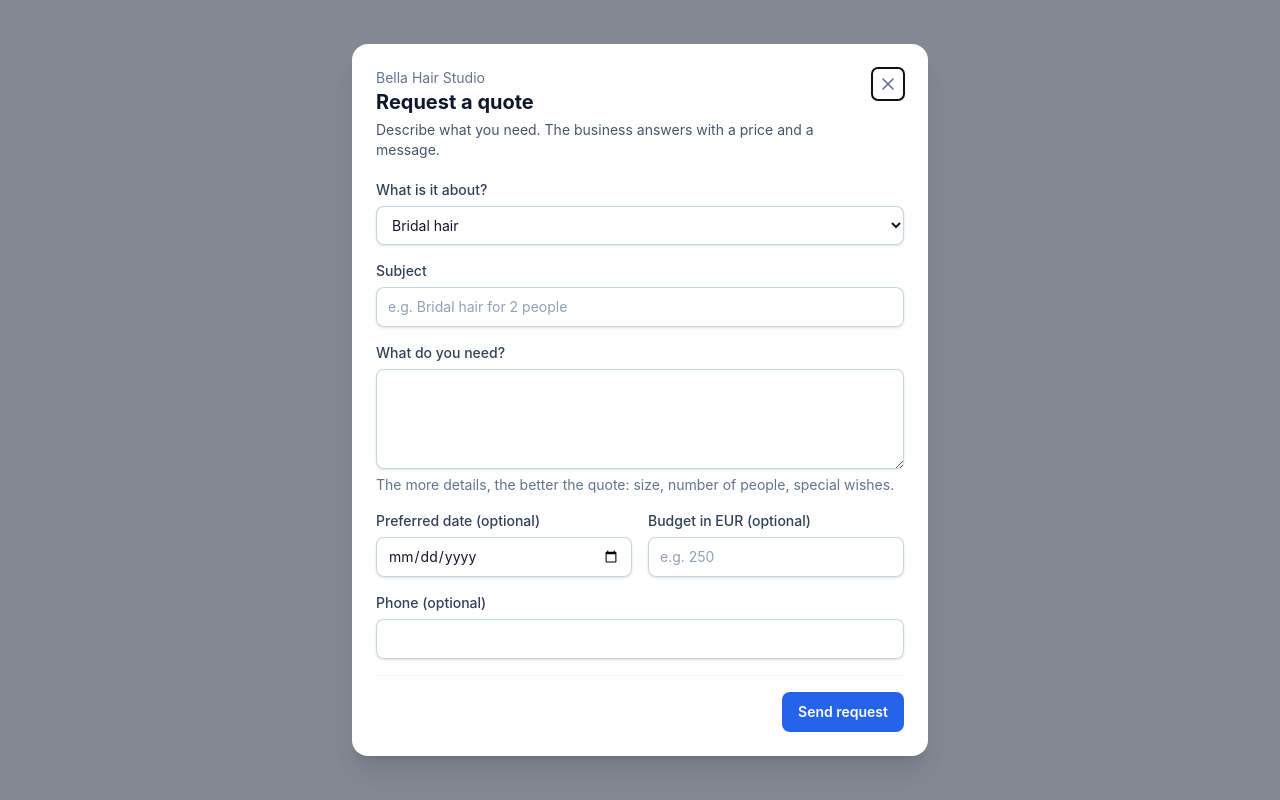
Scenario: QuoteRequestPanel › sends the request with the budget in cents and shows a confirmation
The width and height of the screenshot is (1280, 800).
Step 1. Type "Bridal hair for my wedding" into the field labelled "Subject" → [640, 307], box x1=376 y1=287 x2=904 y2=327
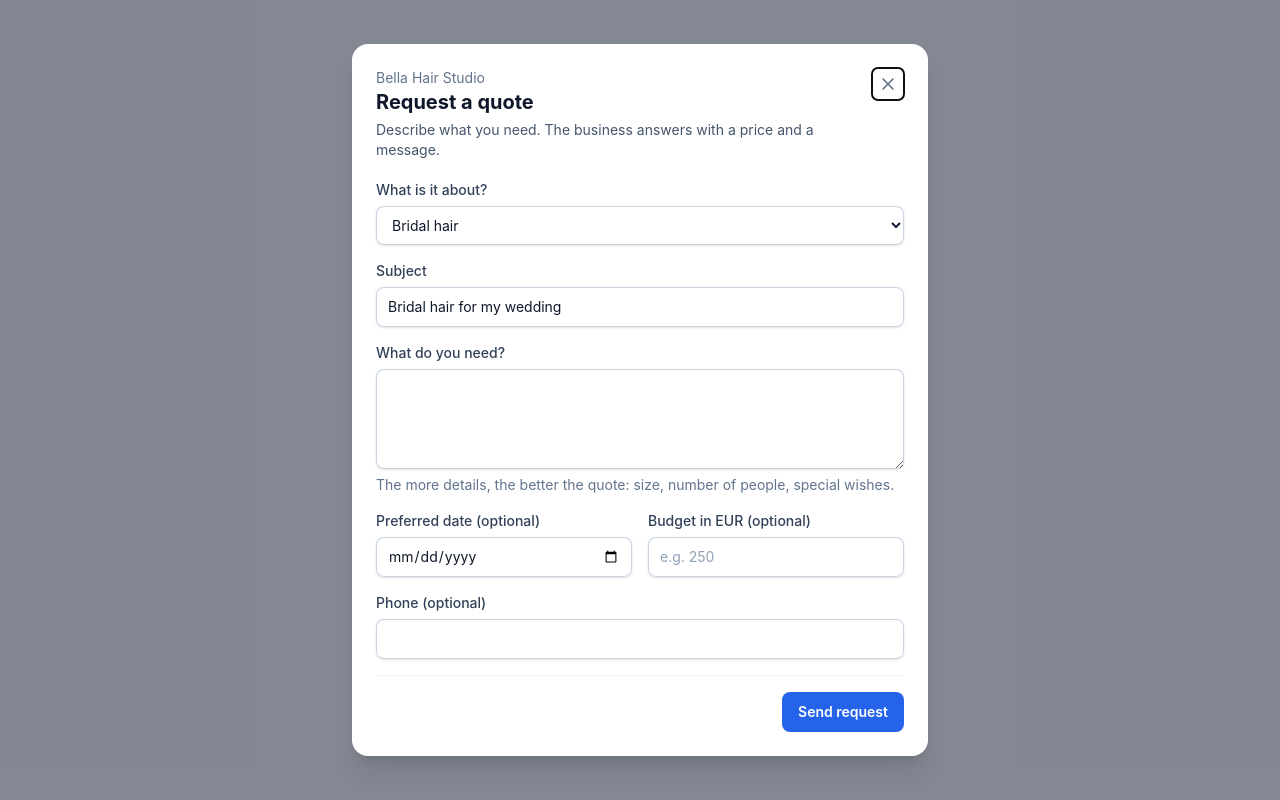
Step 2. Type "Long hair, an updo with flowers, and a trial session." into the text box labelled "What do you need?" → [640, 419], box x1=376 y1=369 x2=904 y2=469
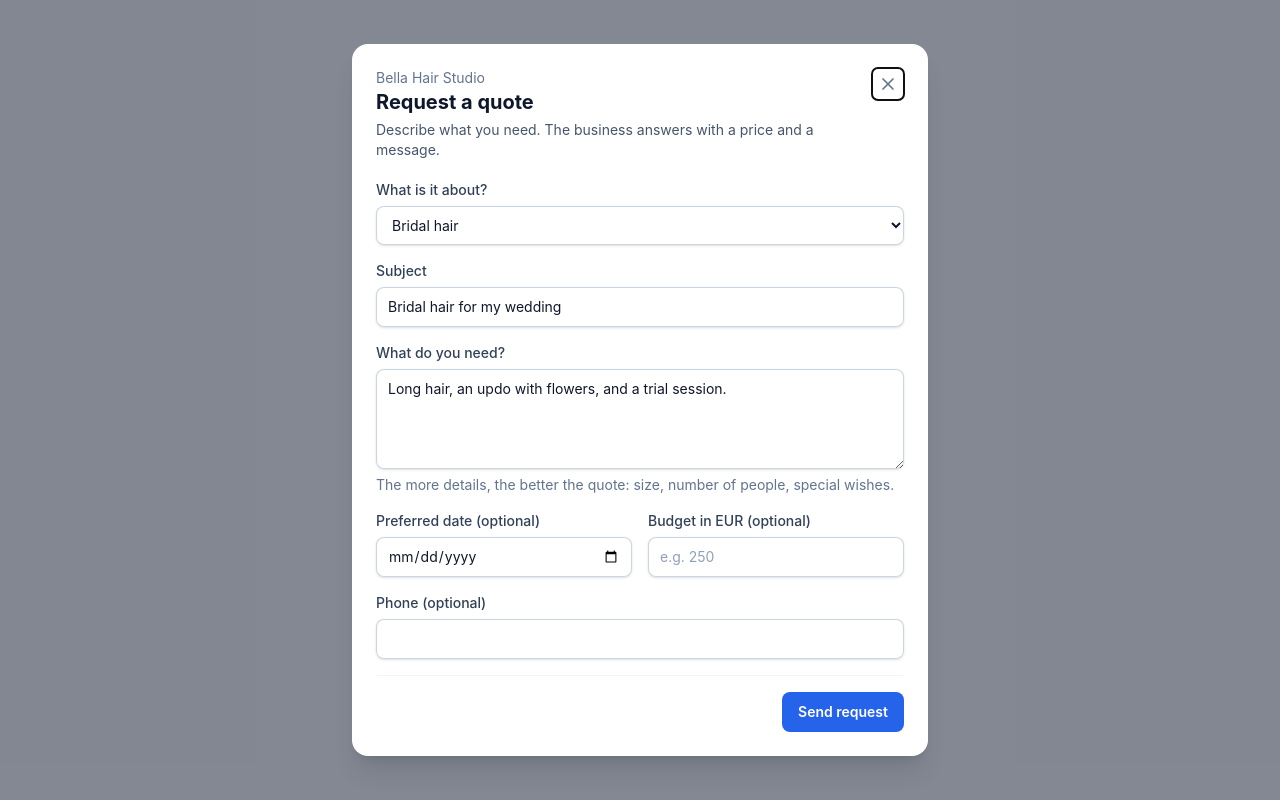
Step 3. Type "249,50" into the field labelled "Budget in EUR (optional)" → [776, 557], box x1=648 y1=537 x2=904 y2=577
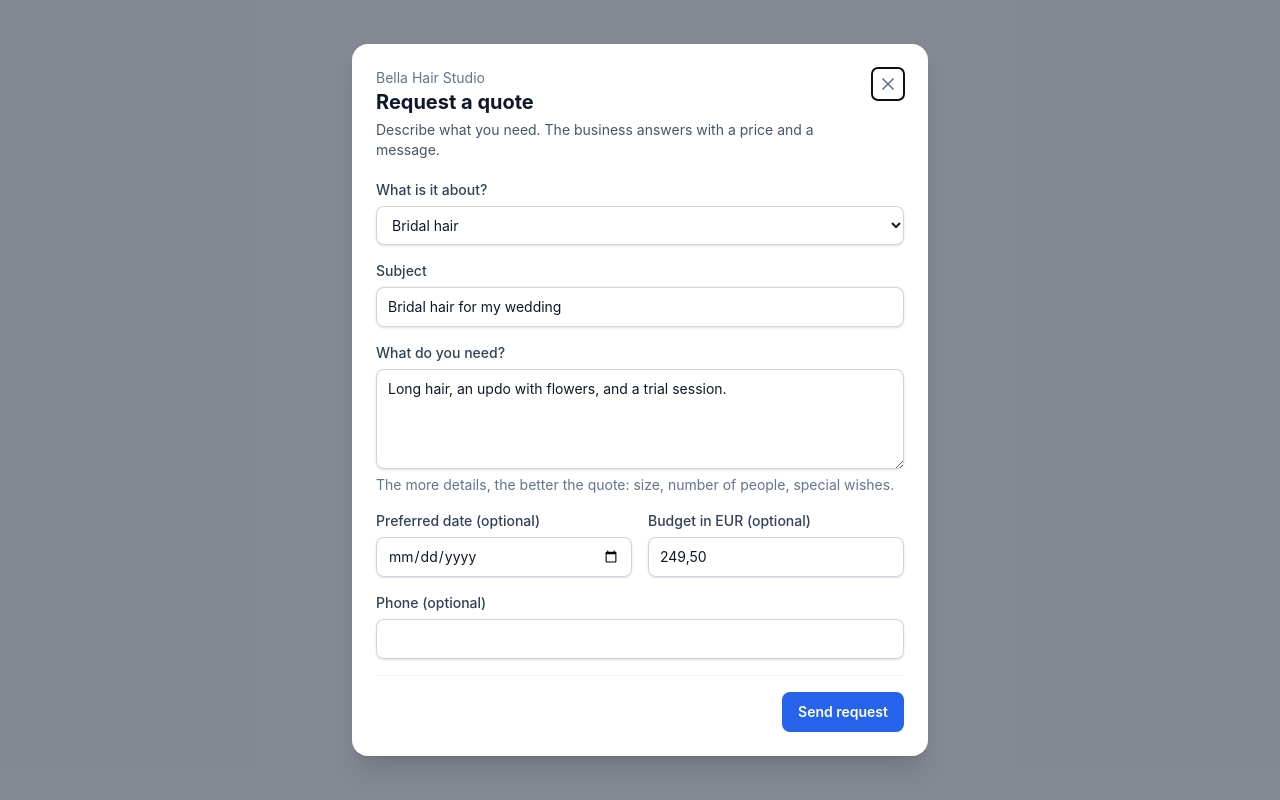
Step 4. Click the button "Send request" → [843, 712], box x1=782 y1=692 x2=904 y2=732
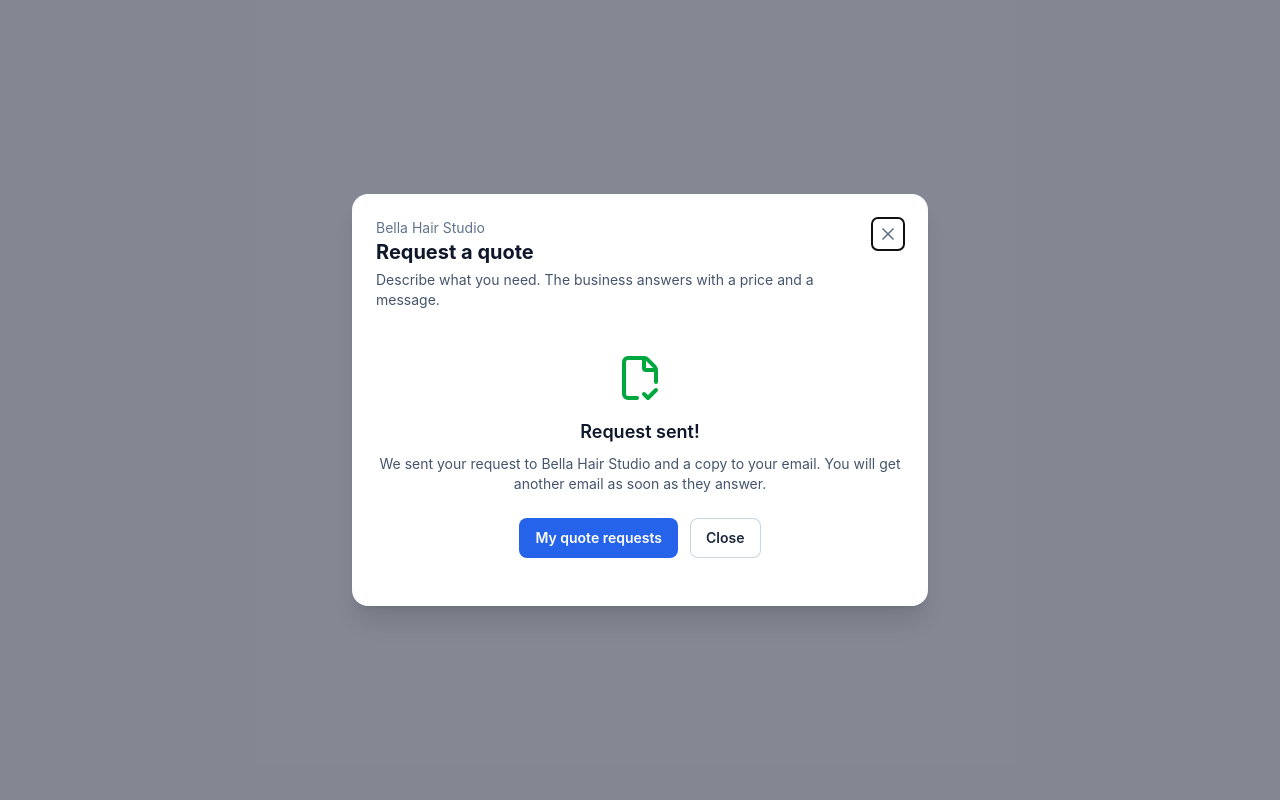
Now the heading "Request sent!" is shown, box x1=580 y1=421 x2=700 y2=442
